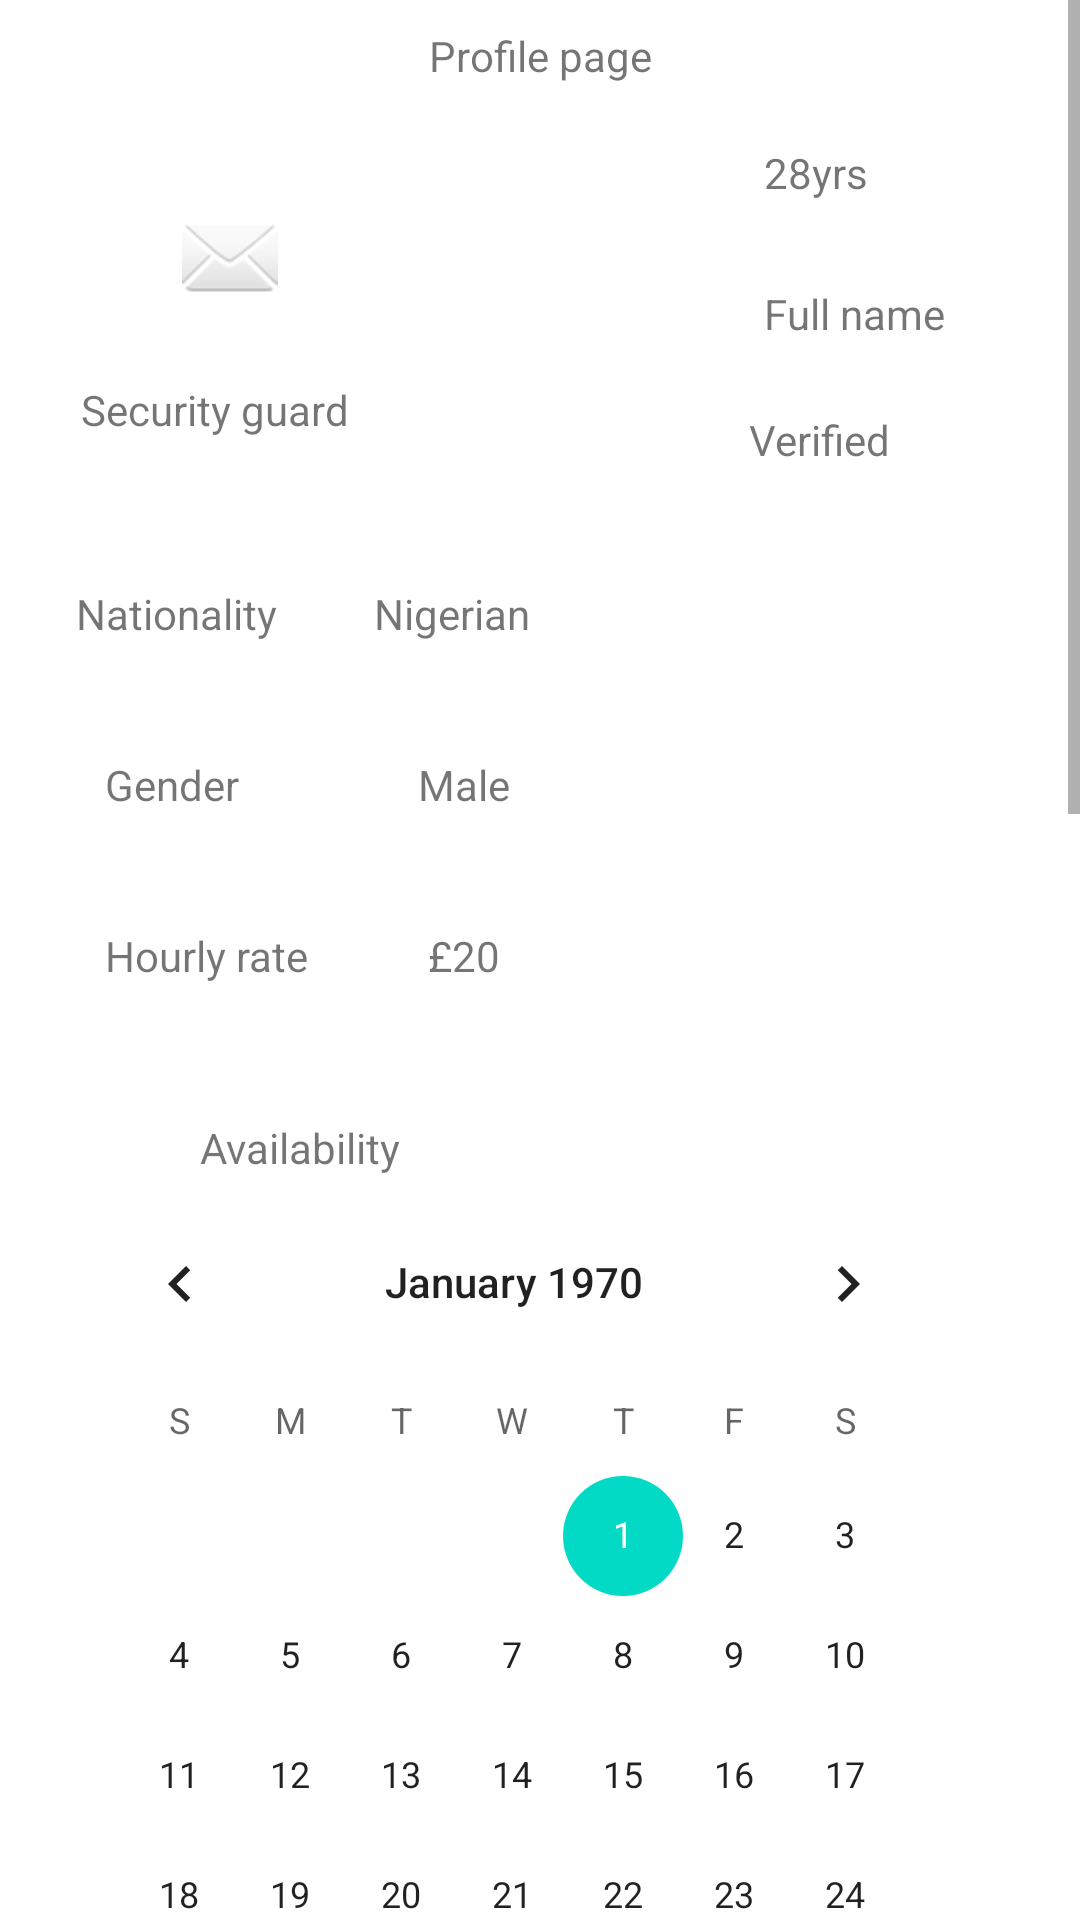

Where to tap for icons on this 1080px×1920px app screen, as (x,y):
email: (230,259)
